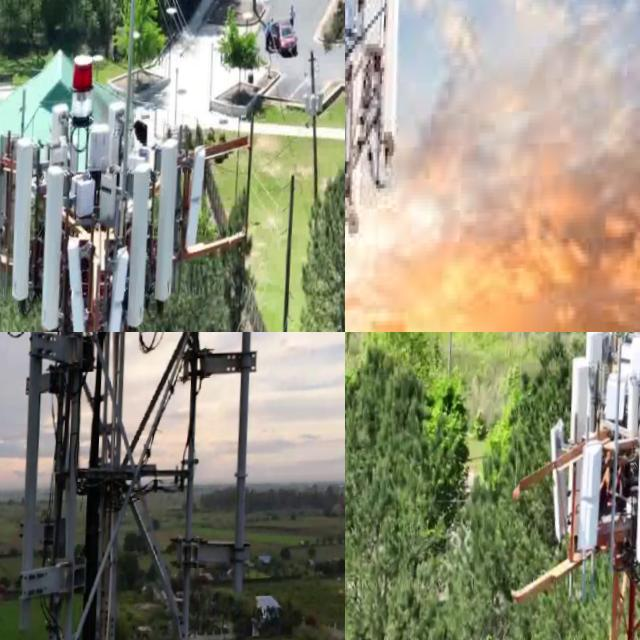GSM Antenna: (151, 125, 186, 316), (40, 154, 72, 332), (377, 0, 414, 152), (127, 154, 156, 332), (11, 132, 40, 309), (547, 412, 574, 545), (625, 364, 640, 572), (64, 232, 95, 332), (188, 132, 210, 258), (566, 356, 597, 440), (355, 0, 395, 58), (105, 250, 133, 332), (586, 332, 612, 369)
